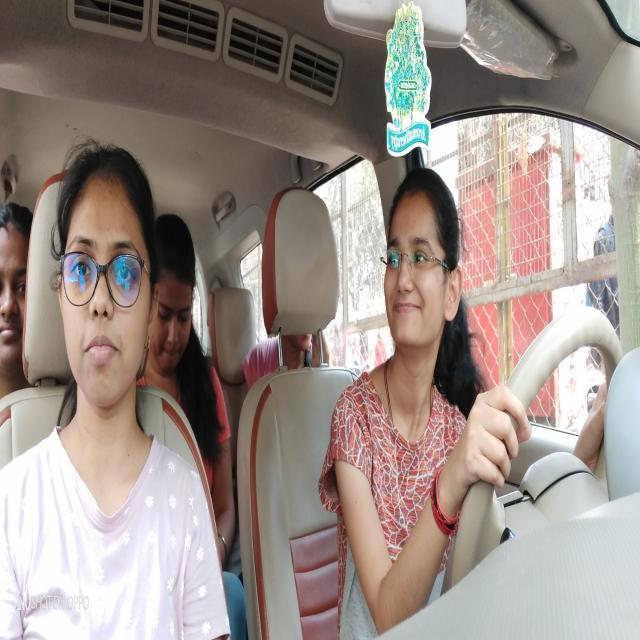LeftRight: (382, 154, 464, 386)
person: (55, 134, 162, 410), (154, 209, 197, 397), (0, 206, 33, 378)
